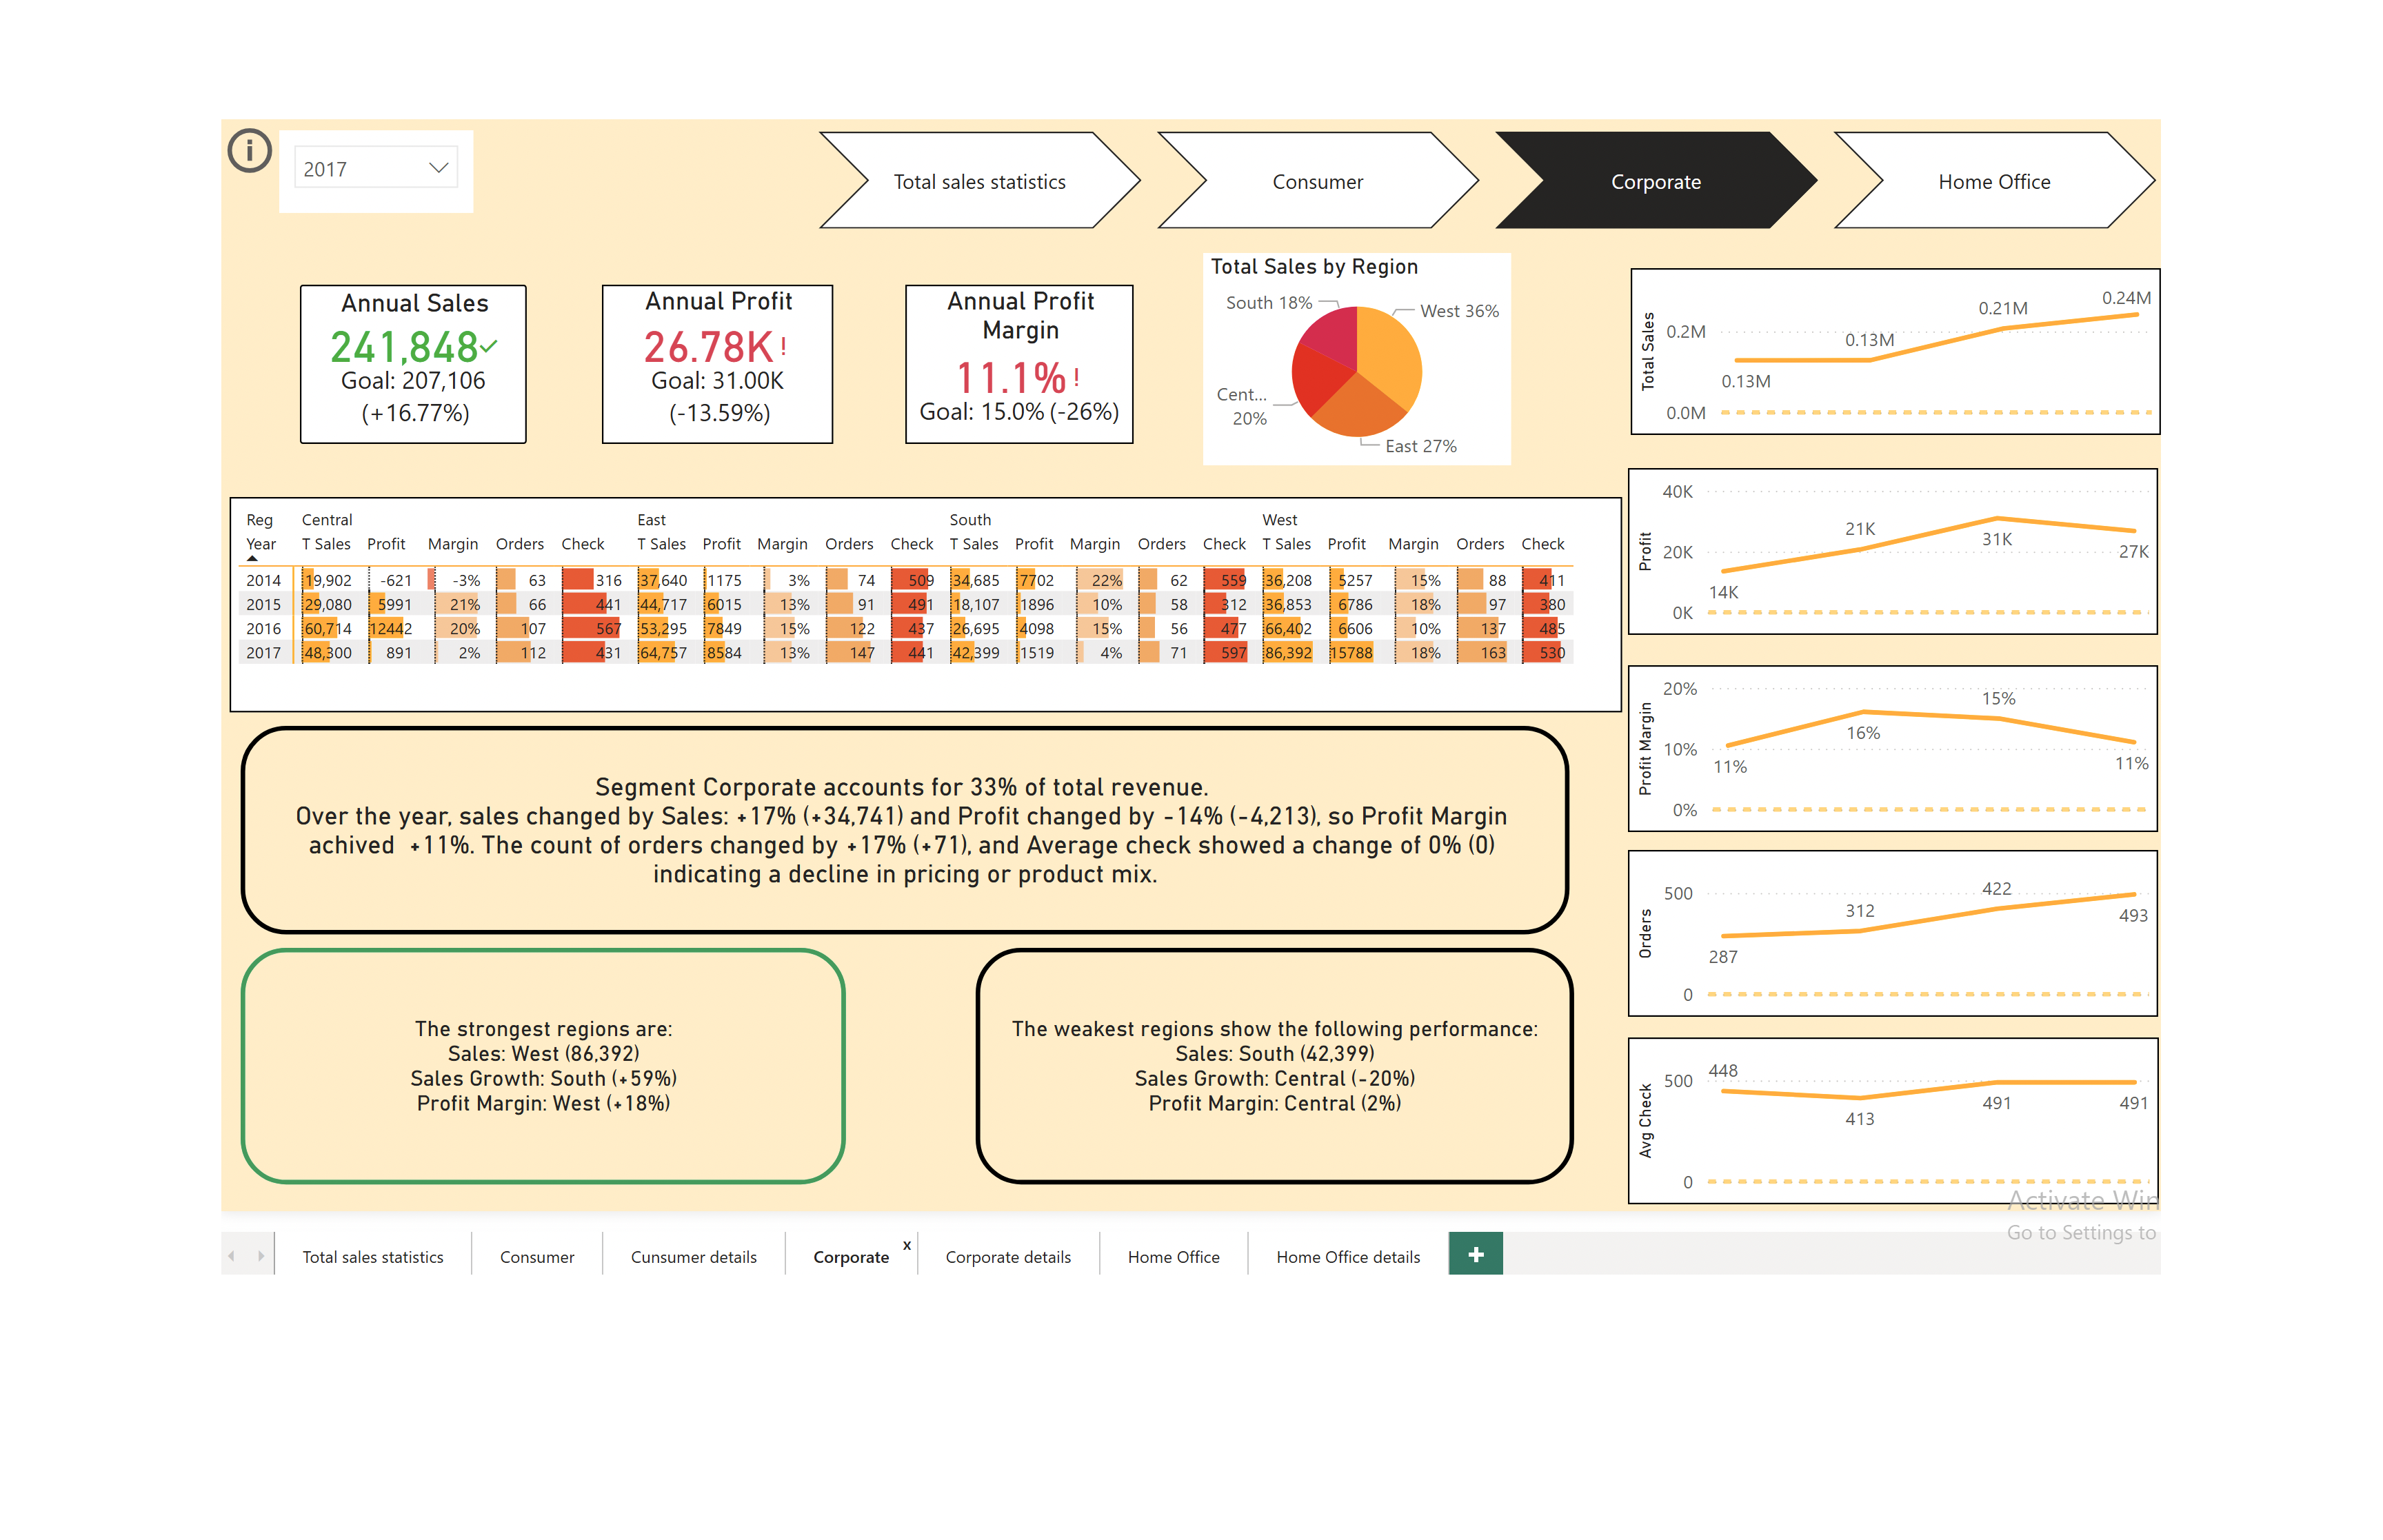

What the dashboard file says about the page in this screenshot:
{"tool":"powerbi","page":{"name":"Corporate","canvas":[1280,720],"ordinal":3},"visuals":[{"type":"pageNavigator","box":[395,7.9,885,64.7],"z":0},{"type":"actionButton","box":[0,1.1,39.4,39.4],"z":1000},{"type":"pivotTable","title":"KPI","fields":{"Columns":["Sales.Region"],"Rows":["DateTable.Year"],"Values":["_Measures.Total Sales","_Measures.Profit","_Measures.Profit Margin","_Measures.Distinct Orders","_Measures.Avg Check"]},"box":[6.6,249.4,917.9,142.2],"z":2000},{"type":"pieChart","fields":{"Y":["_Measures.Total Sales"],"Category":["Sales.Region"]},"box":[648.2,87.9,202.9,140.1],"z":3000},{"type":"slicer","fields":{"Values":["DateTable.Year"]},"box":[39.4,7.7,128,54.7],"z":6000},{"type":"card","fields":{"Values":["_Measures.KEY Insight 1.2"]},"box":[13.6,546.5,399.2,156],"z":9000},{"type":"card","fields":{"Values":["_Measures.Key Insight 1.3"]},"box":[498,546.5,394.4,156],"z":10000},{"type":"card","fields":{"Values":["_Measures.Key Insight 1.1"]},"box":[13.6,400.2,875.9,137.6],"z":11000},{"type":"lineChart","fields":{"Y":["_Measures.Total Sales"],"Category":["DateTable.Year"]},"box":[930.3,98.5,349.7,110.1],"z":12000},{"type":"lineChart","title":"Profit by Year","fields":{"Y":["_Measures.Profit"],"Category":["DateTable.Year"]},"box":[928.4,229.9,349.7,110.1],"z":13000},{"type":"lineChart","fields":{"Category":["DateTable.Year"],"Y":["_Measures.Distinct Orders"]},"box":[928.4,482.1,349.7,110.1],"z":14000},{"type":"lineChart","fields":{"Category":["DateTable.Year"],"Y":["_Measures.Avg Check"]},"box":[928.4,605.7,350,110],"z":15000},{"type":"lineChart","fields":{"Category":["DateTable.Year"],"Y":["_Measures.Profit Margin"]},"box":[928.4,360.3,349.7,110.1],"z":16000},{"type":"kpi","title":"Annual Sales","fields":{"Indicator":["_Measures.Total Sales"],"Goal":["_Measures.Sales_LY"],"TrendLine":["DateTable.Year"]},"box":[52.5,109,149.6,105],"z":16001},{"type":"kpi","title":"Annual Profit","fields":{"TrendLine":["DateTable.Year"],"Indicator":["_Measures.Profit"],"Goal":["_Measures.Profit LY"]},"box":[251.6,109,152.6,105],"z":16002},{"type":"kpi","title":"Annual Profit Margin","fields":{"TrendLine":["DateTable.Year"],"Indicator":["_Measures.Profit Margin"],"Goal":["_Measures.Margin LY"]},"box":[451.8,109,150.6,105],"z":16003}]}

Visuals, with their boxes on the page's 1280x720 design canvas (x1, y1, x2, y2). These are canvas units, not pixel positions in the 2383x1540 screenshot, which may show the page scaled, cropped or inside an application window:
pageNavigator: (left=395, top=8, right=1280, bottom=73)
actionButton: (left=0, top=1, right=39, bottom=40)
"KPI" pivotTable: (left=7, top=249, right=924, bottom=392)
pieChart - _Measures.Total Sales x Sales.Region: (left=648, top=88, right=851, bottom=228)
slicer - DateTable.Year: (left=39, top=8, right=167, bottom=62)
card - _Measures.KEY Insight 1.2: (left=14, top=546, right=413, bottom=702)
card - _Measures.Key Insight 1.3: (left=498, top=546, right=892, bottom=702)
card - _Measures.Key Insight 1.1: (left=14, top=400, right=890, bottom=538)
lineChart - _Measures.Total Sales x DateTable.Year: (left=930, top=98, right=1280, bottom=209)
"Profit by Year" lineChart: (left=928, top=230, right=1278, bottom=340)
lineChart - DateTable.Year x _Measures.Distinct Orders: (left=928, top=482, right=1278, bottom=592)
lineChart - DateTable.Year x _Measures.Avg Check: (left=928, top=606, right=1278, bottom=716)
lineChart - DateTable.Year x _Measures.Profit Margin: (left=928, top=360, right=1278, bottom=470)
"Annual Sales" kpi: (left=52, top=109, right=202, bottom=214)
"Annual Profit" kpi: (left=252, top=109, right=404, bottom=214)
"Annual Profit Margin" kpi: (left=452, top=109, right=602, bottom=214)
